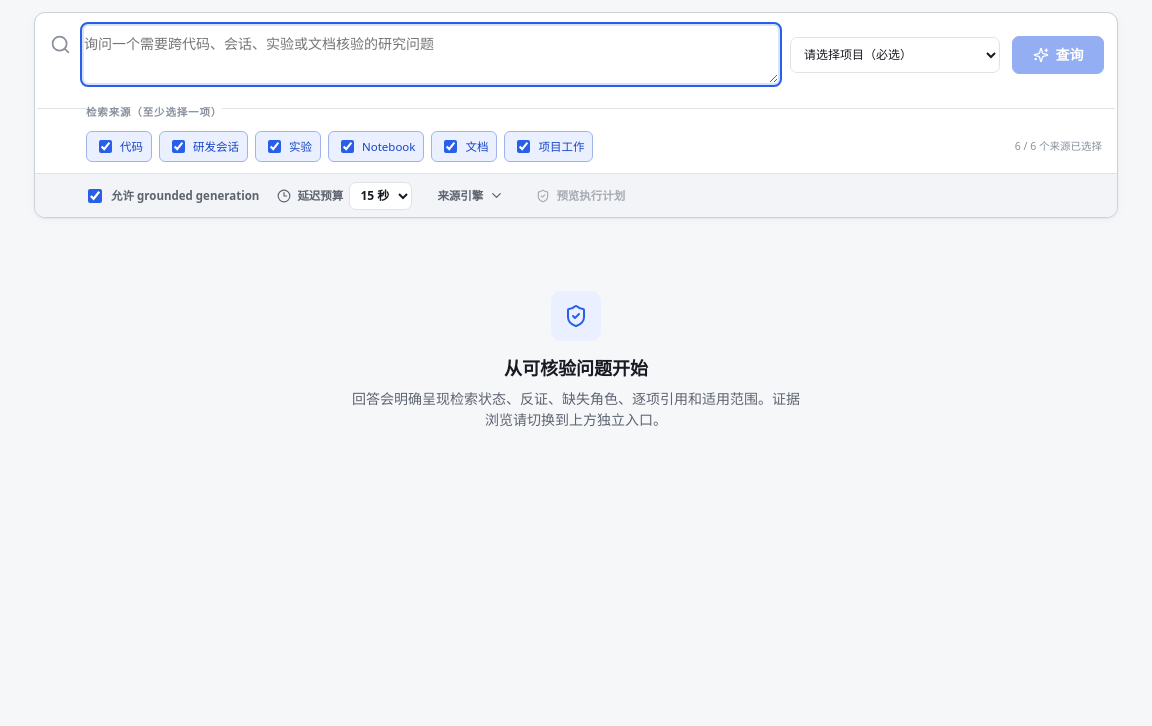
it: TrustedQueryPanel › renders grounded trust signals, citations, counter evidence and next actions
Select "Evidence RAG" in the dropdown named "可信查询项目". click: (895, 55)
box: x1=790 y1=37 x2=1000 y2=73
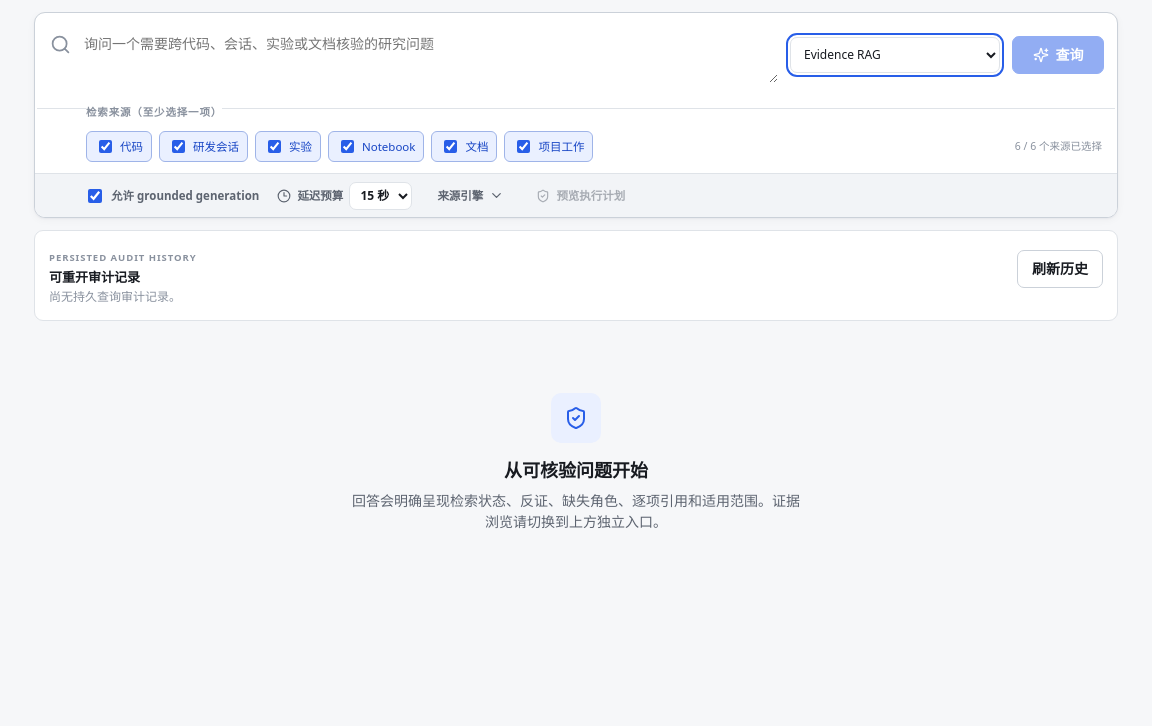
Type "What is current?" into the text box named "可信查询问题". click: (431, 55)
box: x1=84 y1=26 x2=778 y2=83
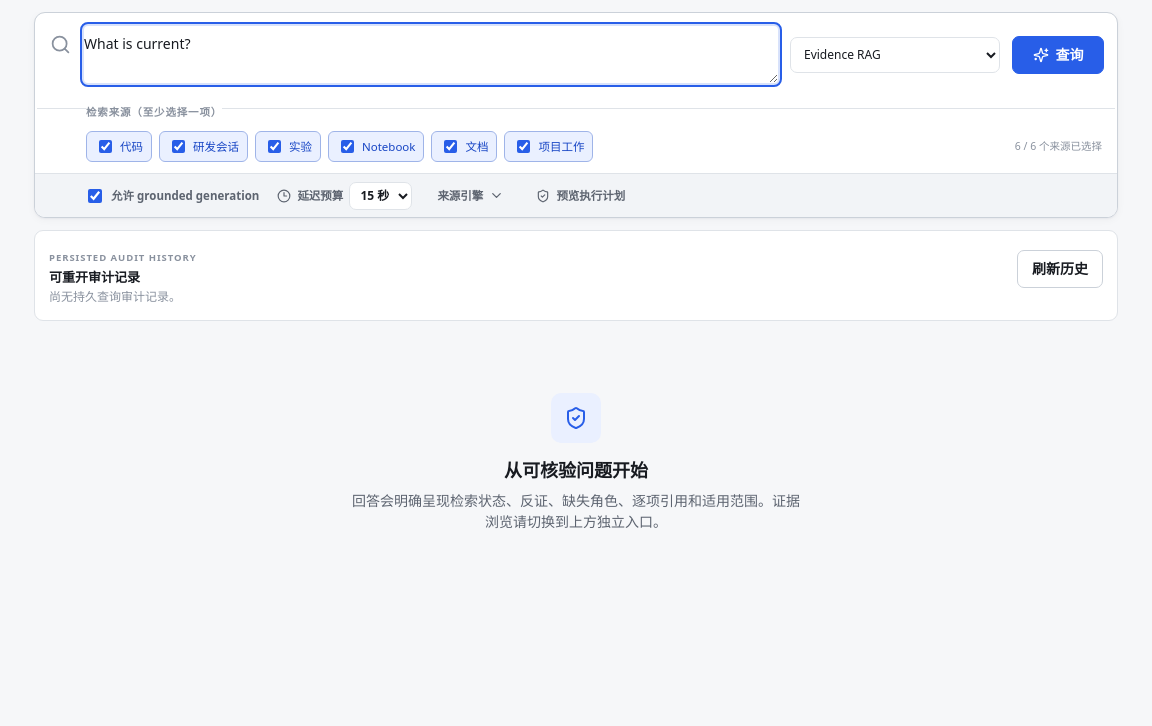
Click the button "查询". click: (1058, 55)
box: x1=1012 y1=36 x2=1104 y2=74
(page scrolled)
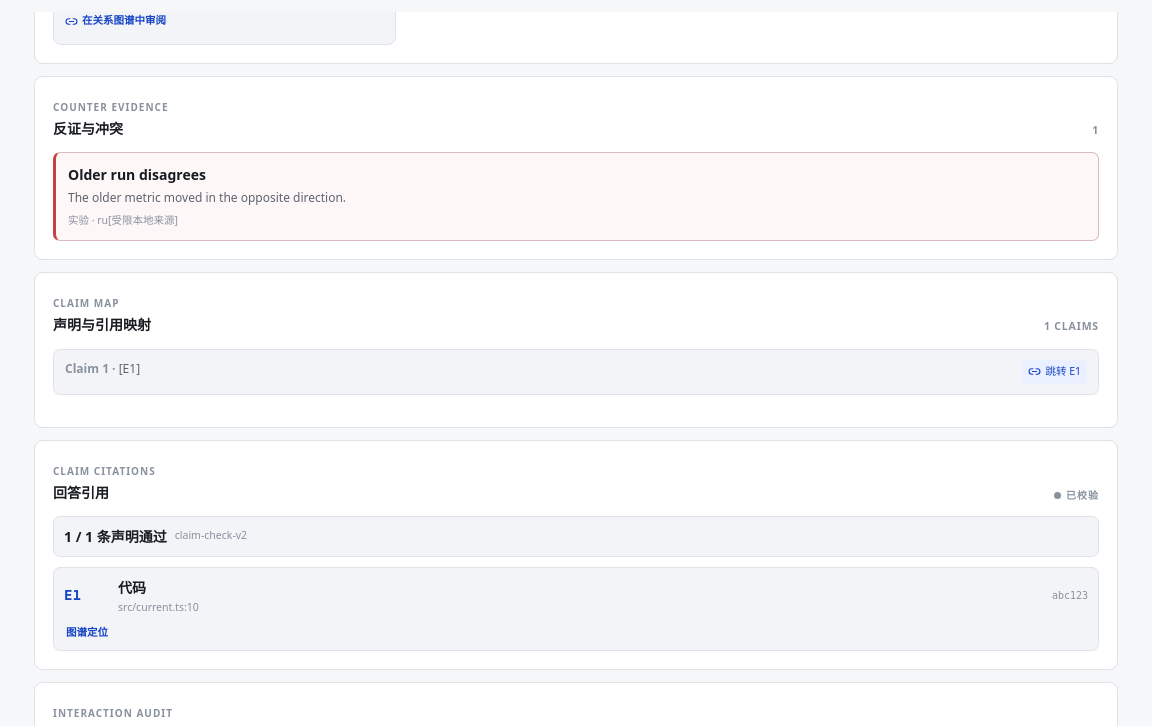
Result: the heading "反证与冲突" is shown at x1=53 y1=118 x2=123 y2=138
Result: the heading "回答引用" is shown at x1=53 y1=483 x2=109 y2=502
